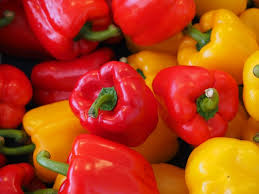bell pepper: (32, 120, 158, 191), (143, 61, 240, 145), (68, 58, 161, 135), (17, 1, 113, 56), (184, 14, 255, 77), (179, 135, 250, 194), (104, 2, 195, 40)
